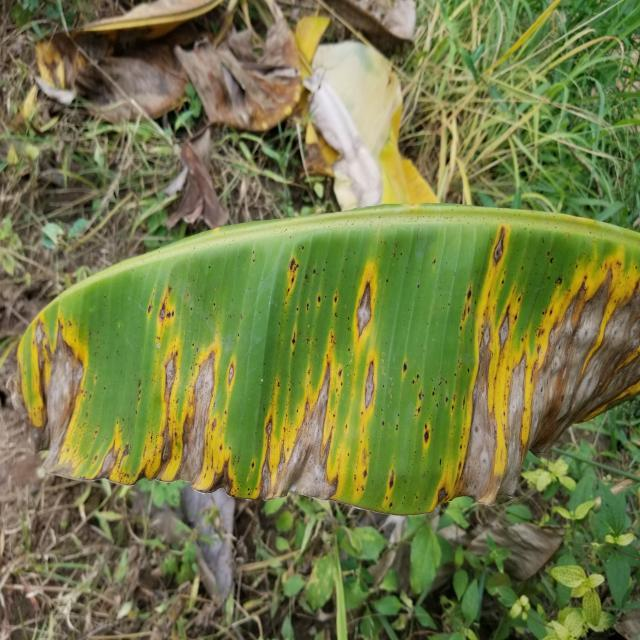Early_rust: (10, 169, 640, 510)
